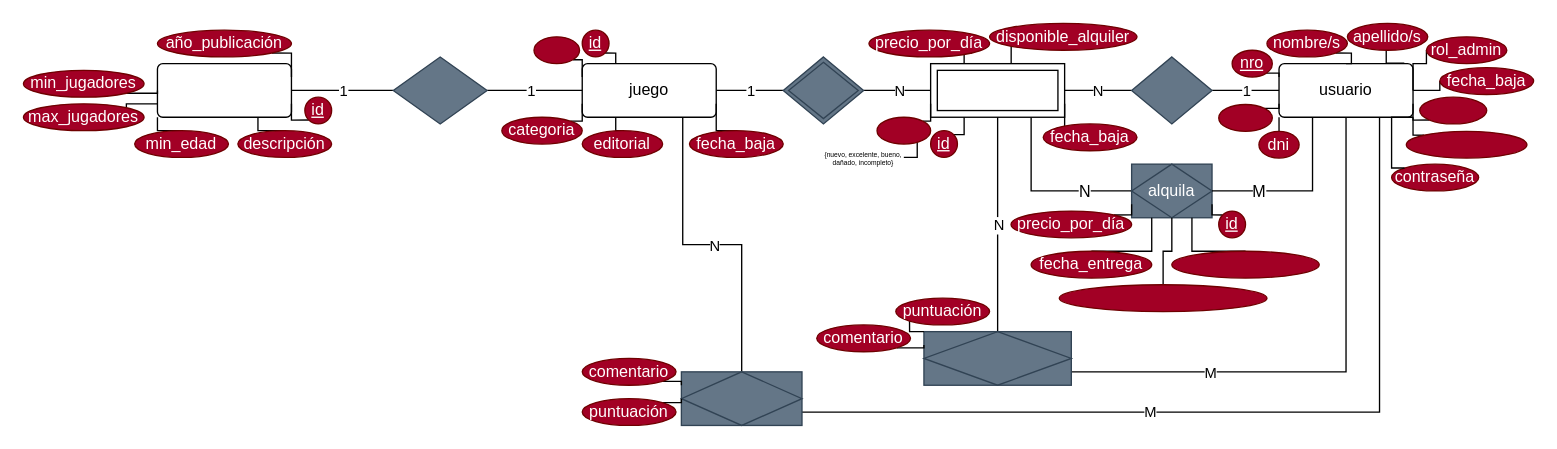
The diagram is 1557 pixels wide and 449 high, and some of its shapes have lost their labels. Each missing label, with the centre of its shape:
correo: the point at 1244,117
crítica_ejemplar: the point at 997,357
crítica_juego: the point at 741,398
dispone: the point at 439,90
ejemplar: the point at 997,89
estado: the point at 903,130
fecha_devolución: the point at 1244,264
fecha_devolución_prevista: the point at 1162,297
fecha_registro: the point at 1466,144
ficha_técnica: the point at 223,89
posee: the point at 1171,90
teléfono: the point at 1452,110
tiene: the point at 823,90
título: the point at 556,50
